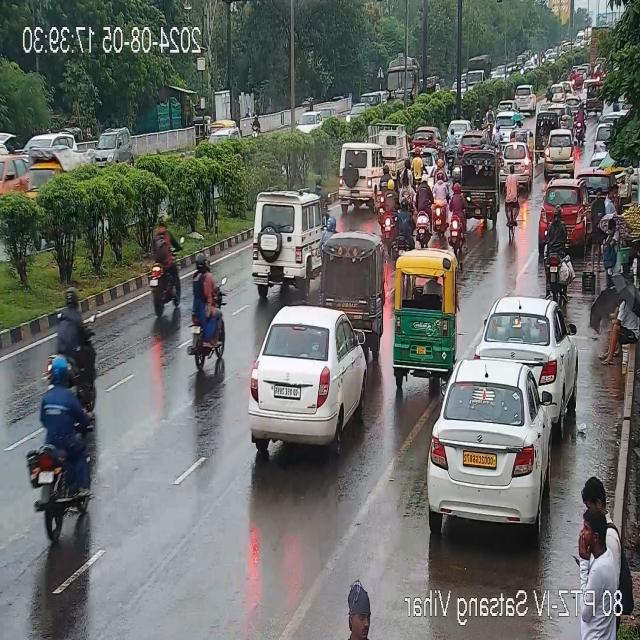2-wheelers: (30, 367, 90, 533), (141, 225, 193, 314), (188, 262, 228, 372), (382, 168, 409, 251), (546, 204, 568, 294), (411, 170, 435, 240), (446, 173, 468, 245), (431, 170, 451, 238), (504, 163, 520, 241), (472, 98, 494, 126), (574, 101, 586, 142), (446, 128, 456, 170), (251, 115, 260, 137), (544, 82, 552, 102)
auto: (394, 250, 459, 386), (307, 234, 383, 344), (455, 151, 501, 223), (26, 157, 61, 200), (534, 109, 550, 159), (584, 82, 606, 110)
car: (422, 362, 568, 530), (246, 306, 364, 447), (474, 298, 574, 410), (245, 195, 324, 298), (331, 140, 385, 209), (534, 178, 589, 244), (540, 182, 588, 237), (95, 122, 134, 166), (538, 129, 576, 174), (587, 122, 610, 176), (505, 142, 531, 185), (552, 80, 578, 118), (492, 108, 523, 138), (510, 84, 538, 110), (206, 128, 240, 148), (297, 110, 325, 134), (412, 125, 436, 152), (491, 100, 520, 118), (462, 131, 488, 150)
pedestrian: (568, 475, 624, 595), (596, 274, 640, 359), (344, 576, 376, 640), (606, 213, 622, 300), (588, 183, 604, 269), (602, 182, 618, 220)
truck: (367, 110, 407, 162)
